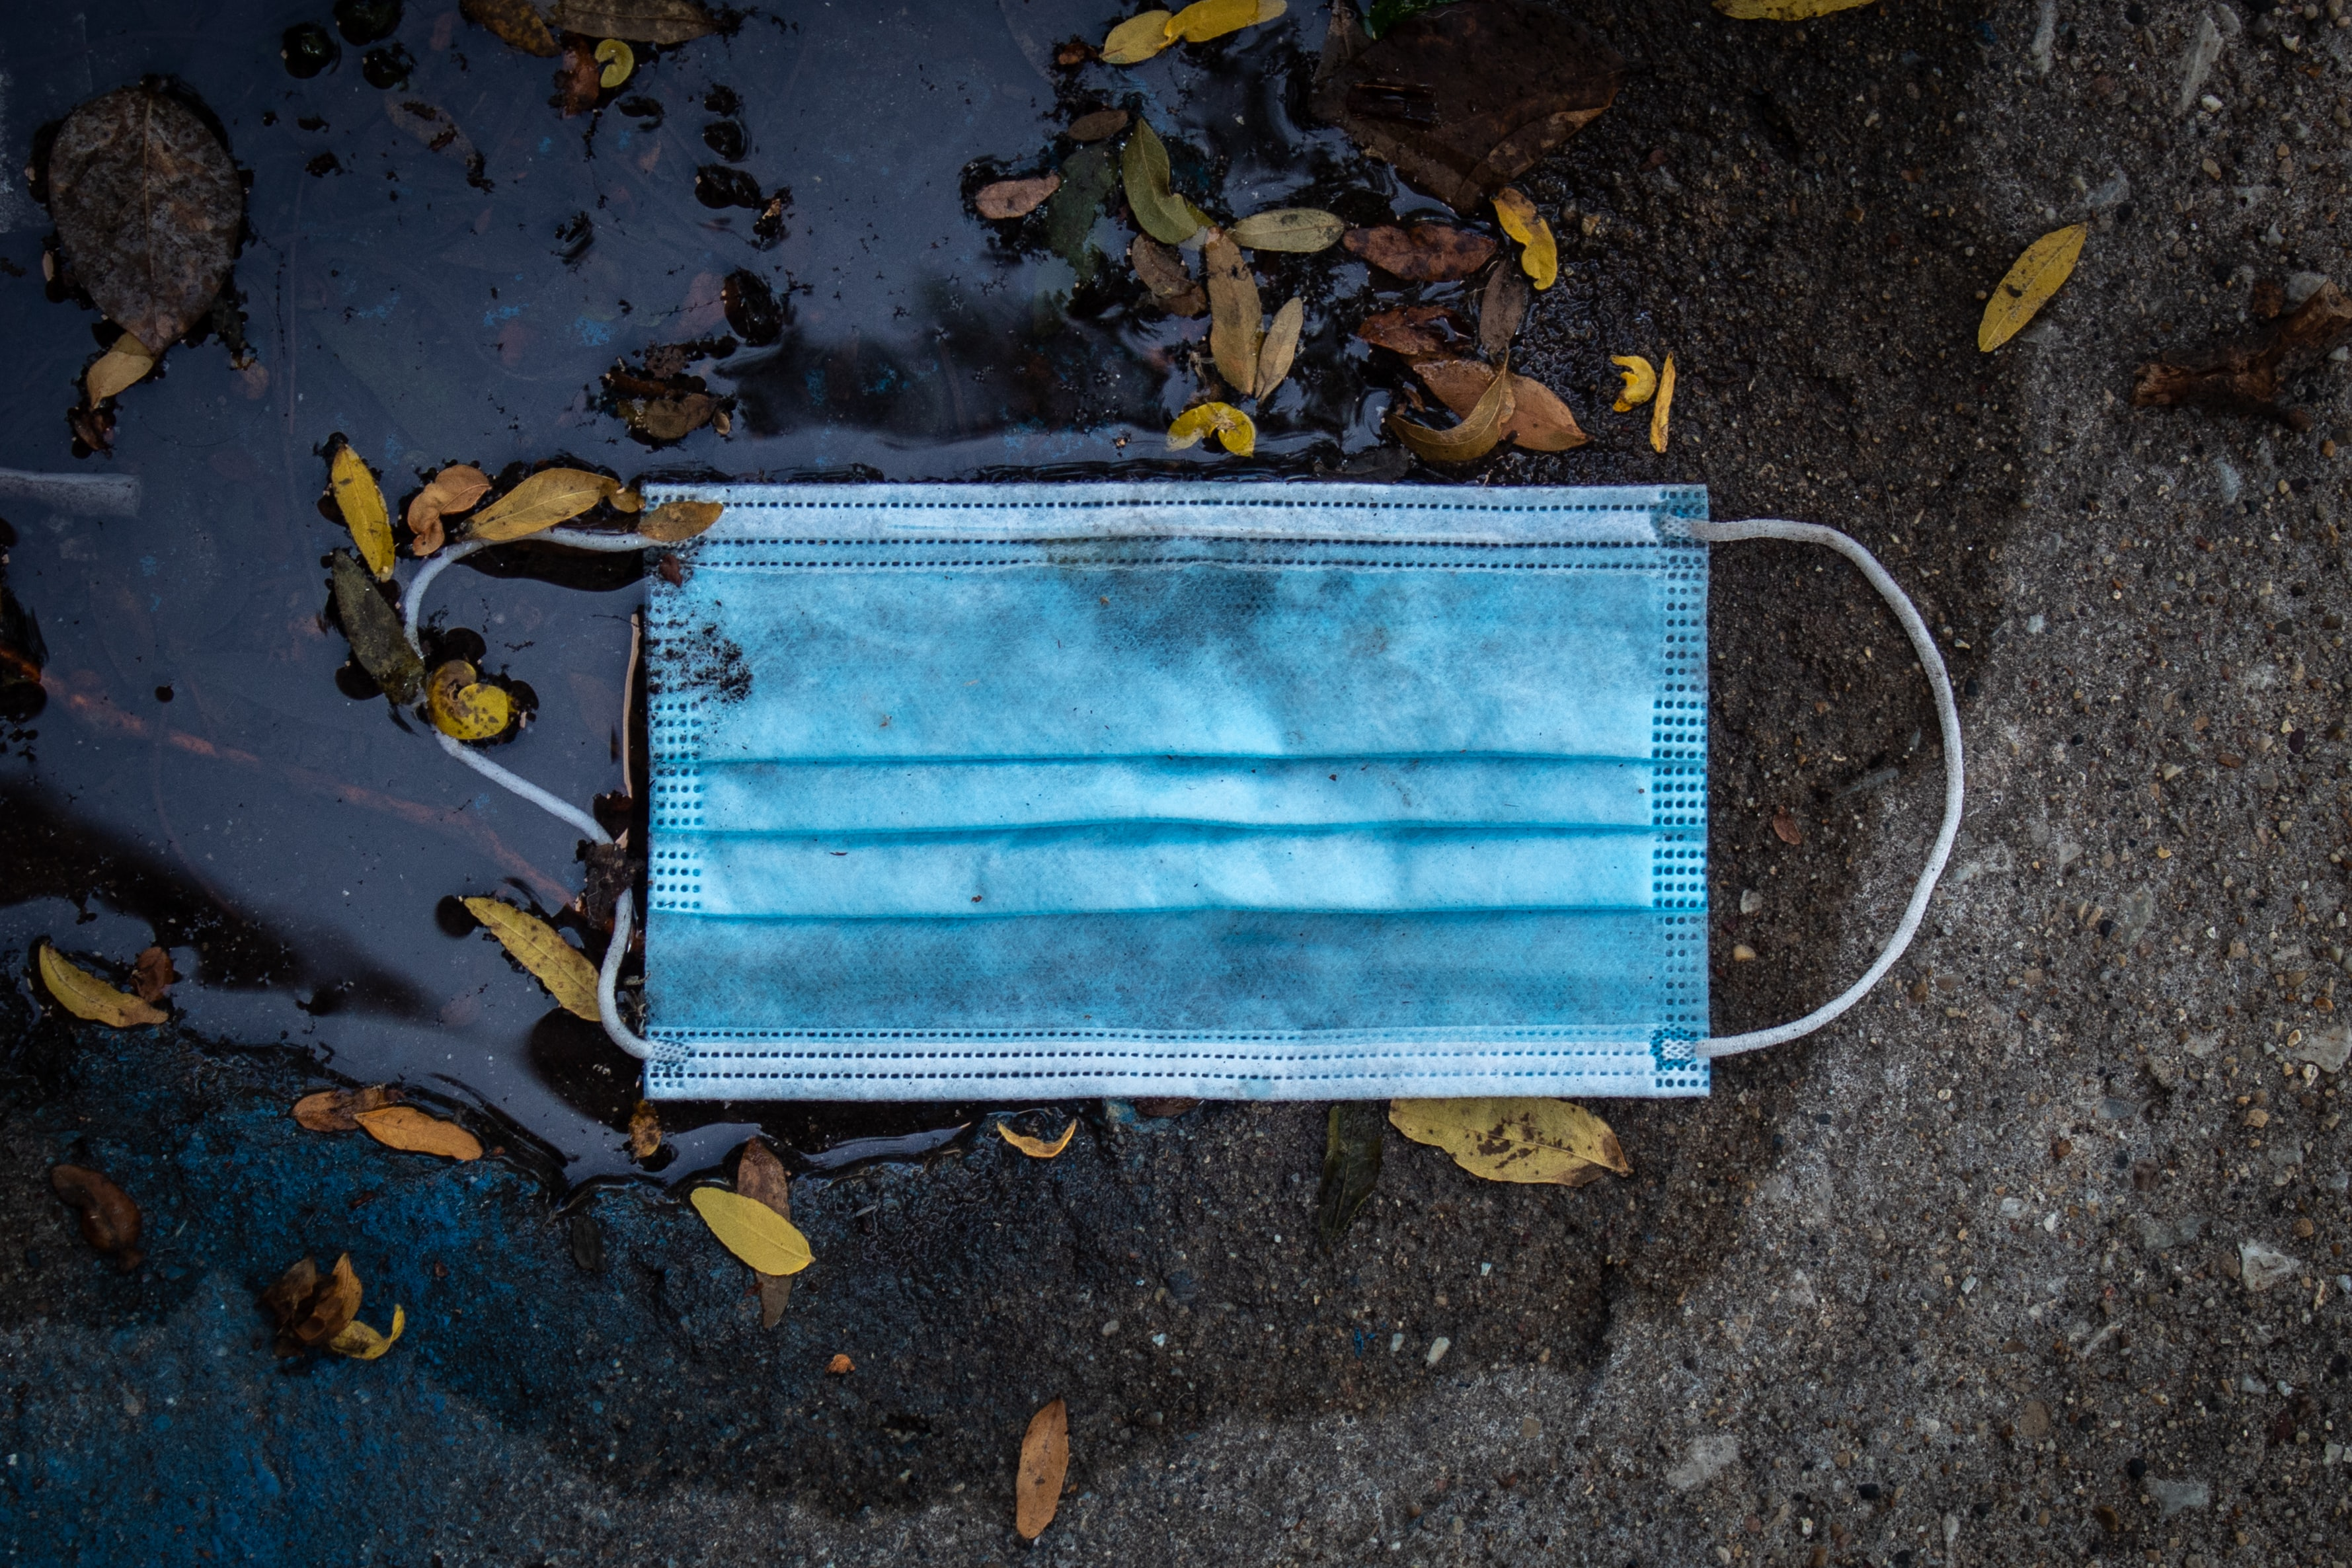mask: (402, 443, 1967, 1181)
